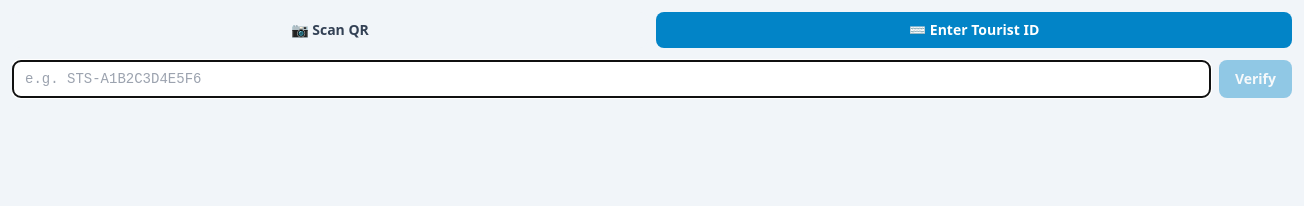
Test: TouristIdScanner › shows expired state
In the field with placeholder "e.g. STS-A1B2C3D4E5F6": coordinates (611, 79) [12,60,1211,98], type "STS-OLD"
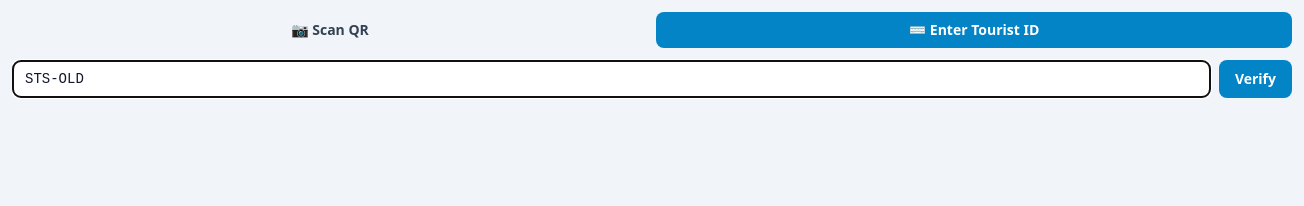
Click the button "Verify": coordinates (1255, 79) [1219,60,1292,98]
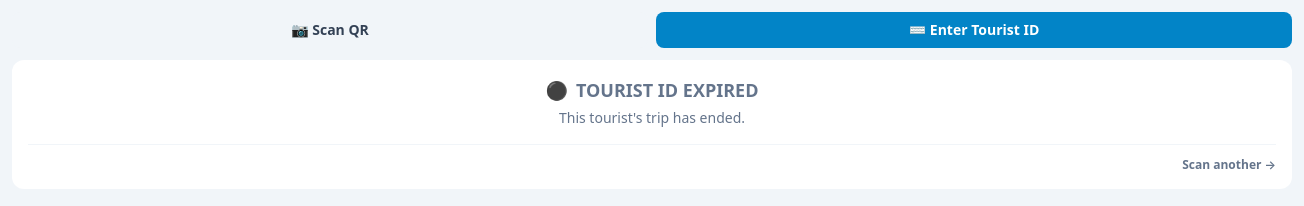
expect the text "⚫ TOURIST ID EXPIRED" is shown: met, box [546,78,758,102]
